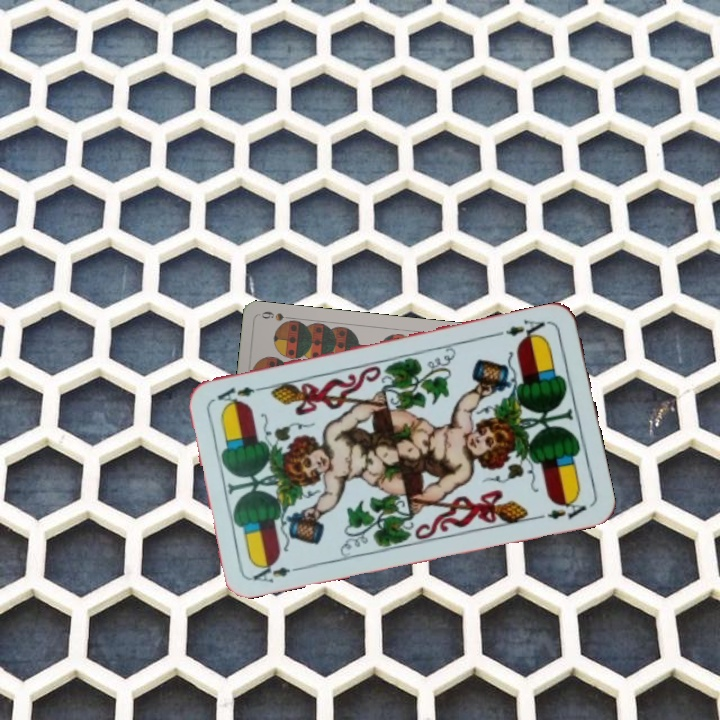EA: (493, 315, 552, 344), (249, 557, 307, 586)
